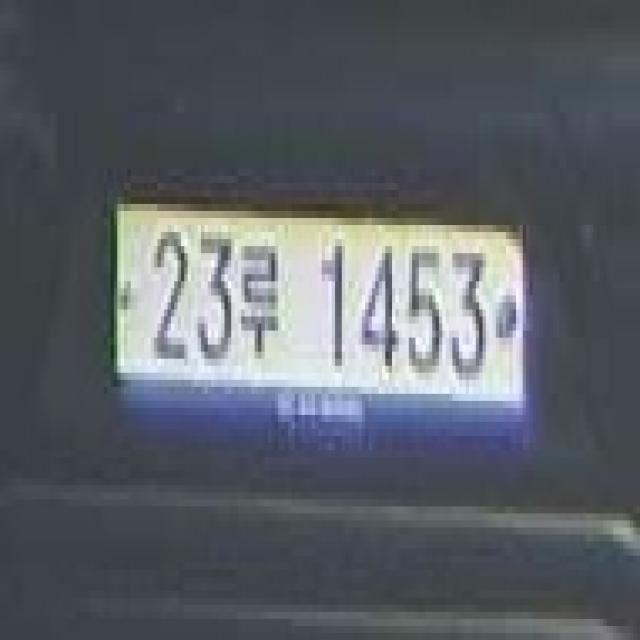1: (318, 230, 350, 372)
2: (146, 218, 192, 364)
3: (450, 230, 492, 388), (196, 223, 236, 368)
4: (359, 233, 402, 376)
5: (408, 234, 446, 380)
license_plate: (117, 204, 530, 420)
lu: (241, 230, 281, 368)
